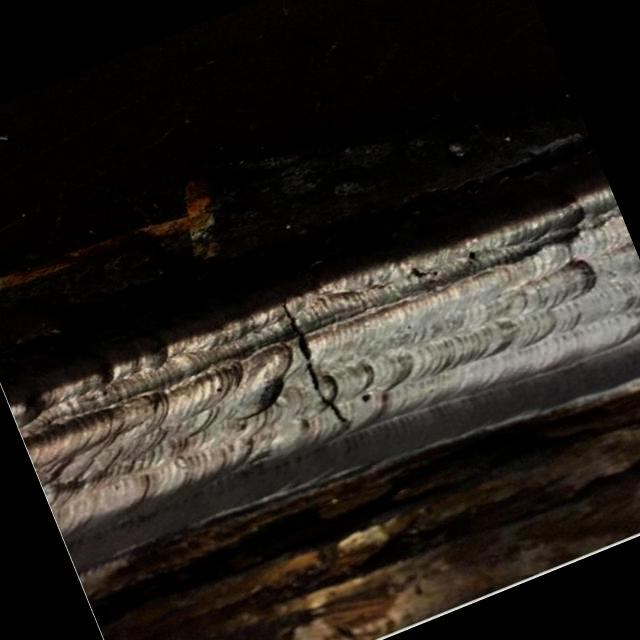defect: (276, 293, 355, 428)
